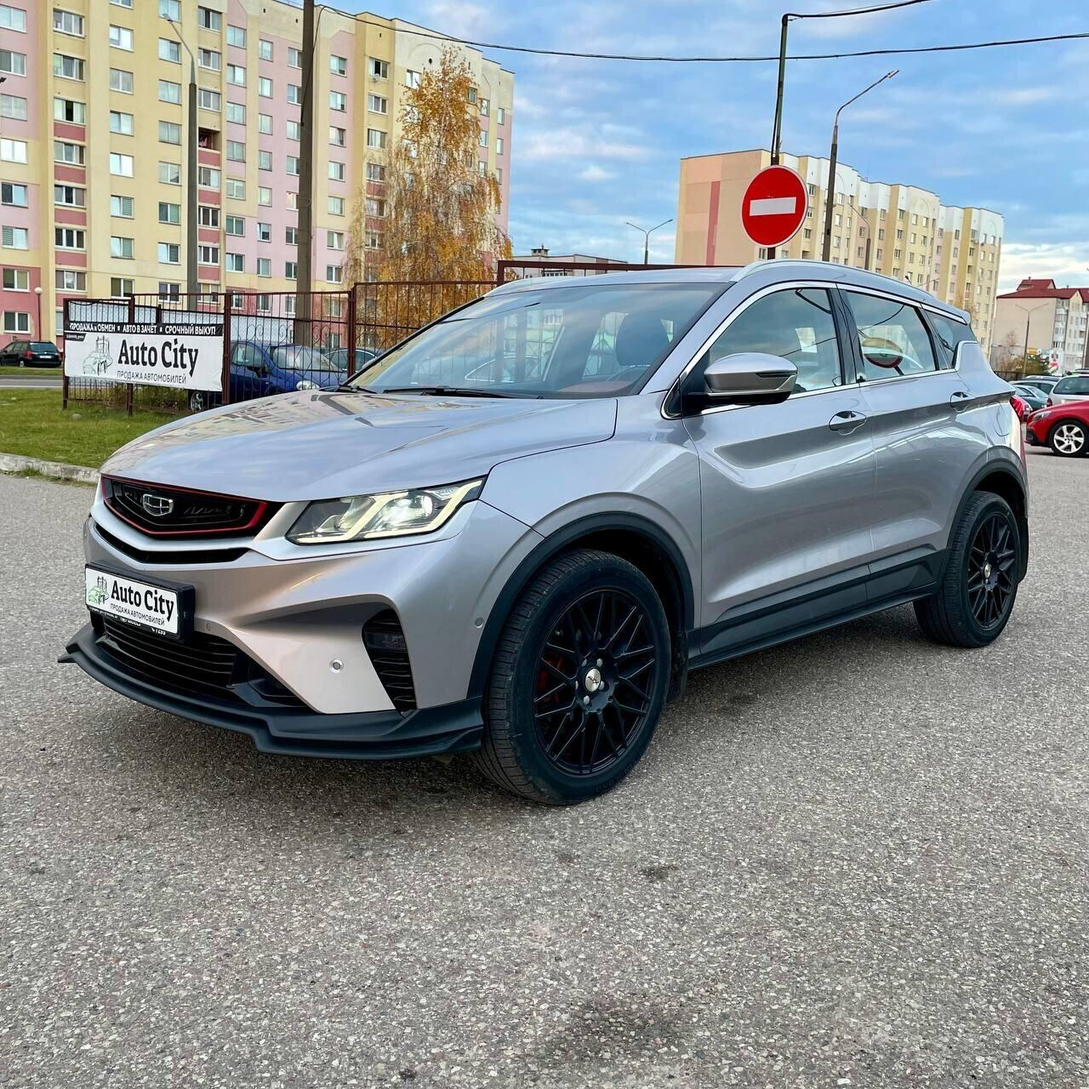Coolray_2019-2023: (67, 258, 1032, 805)
